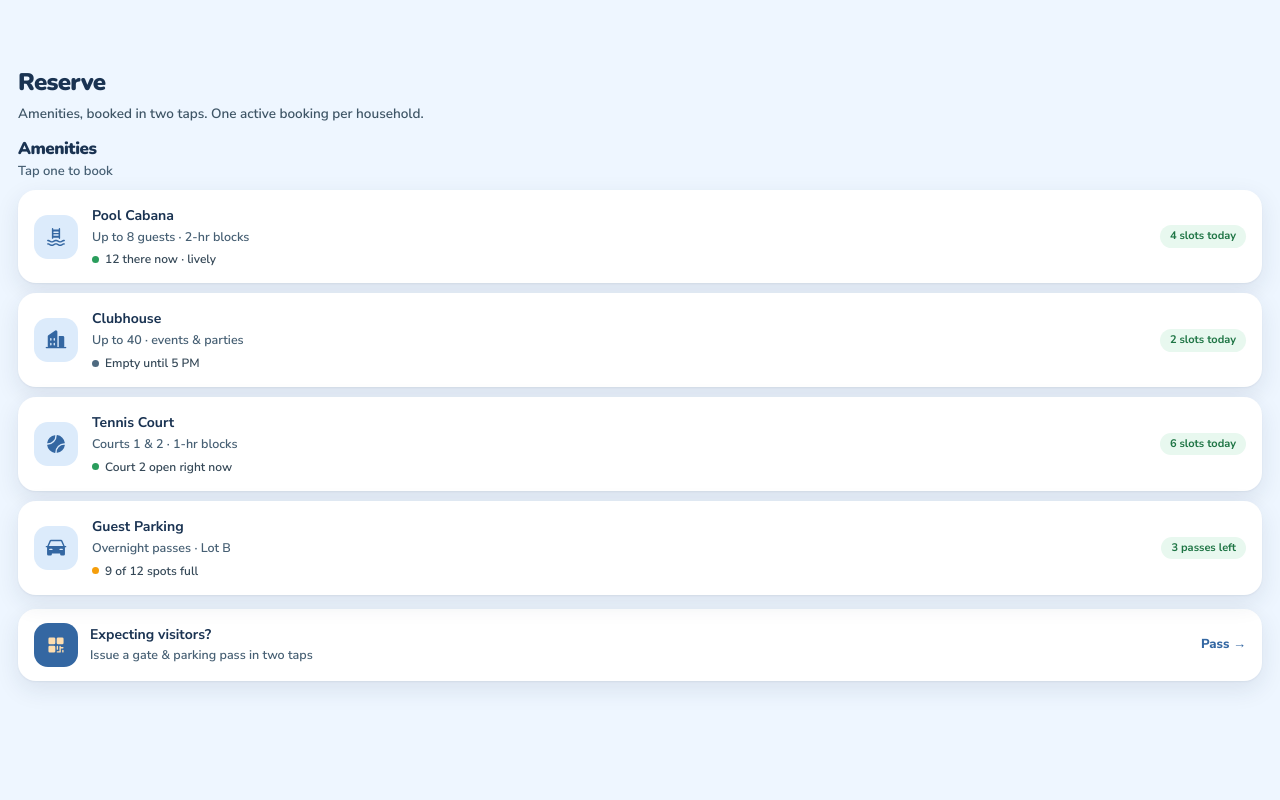
Scenario: booking flow: pick slot, book, see confirmation
The image size is (1280, 800).
Click the text "Pool Cabana" at (133, 215), box [92, 206, 174, 225]
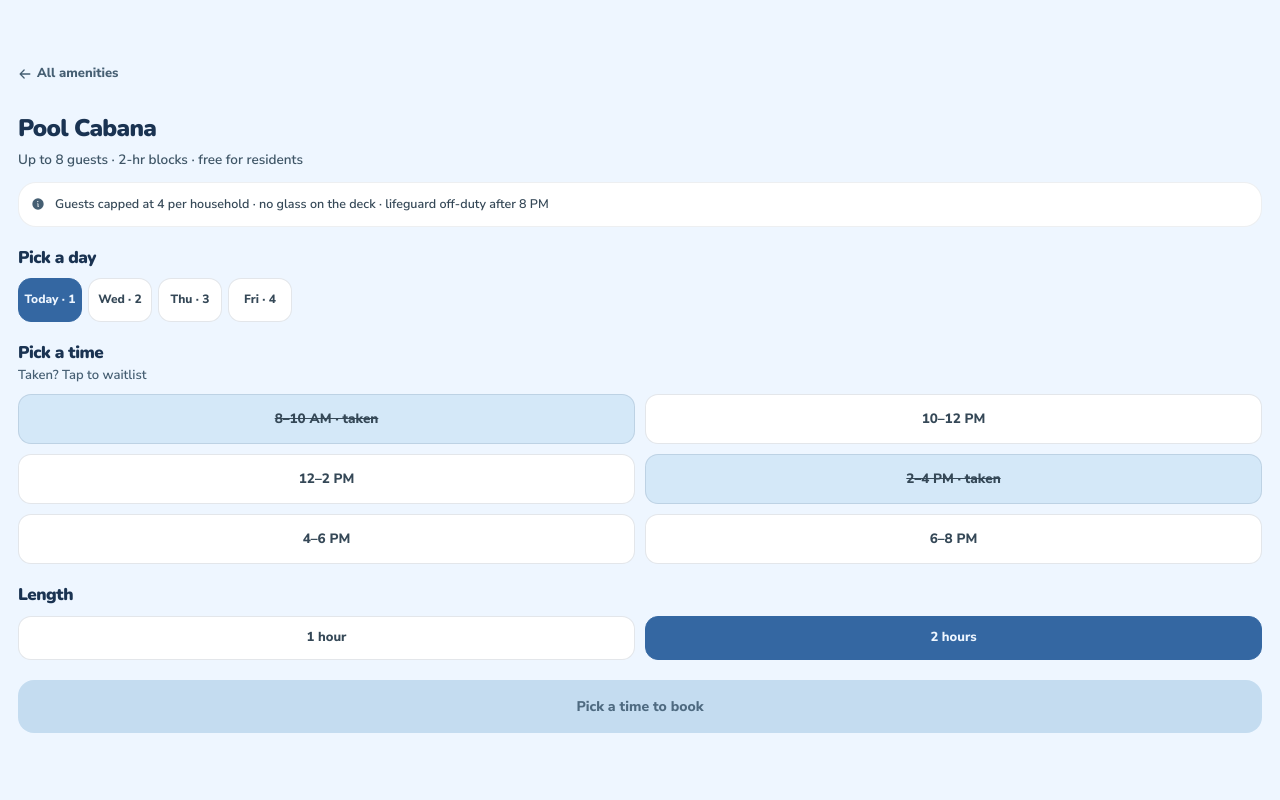
Click the button "4–6 PM" at (326, 539), box [18, 514, 635, 564]
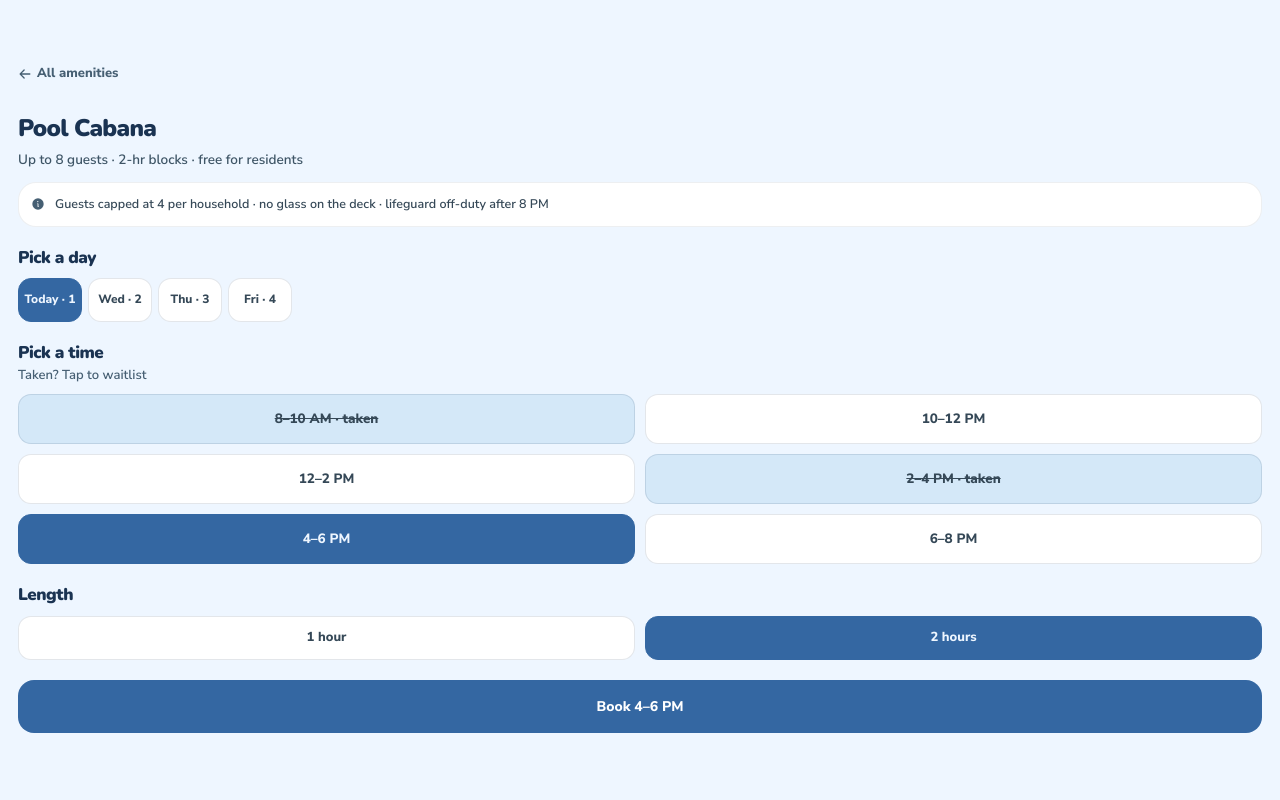
Click the button "Book 4–6 PM" at (640, 706), box [18, 680, 1262, 733]
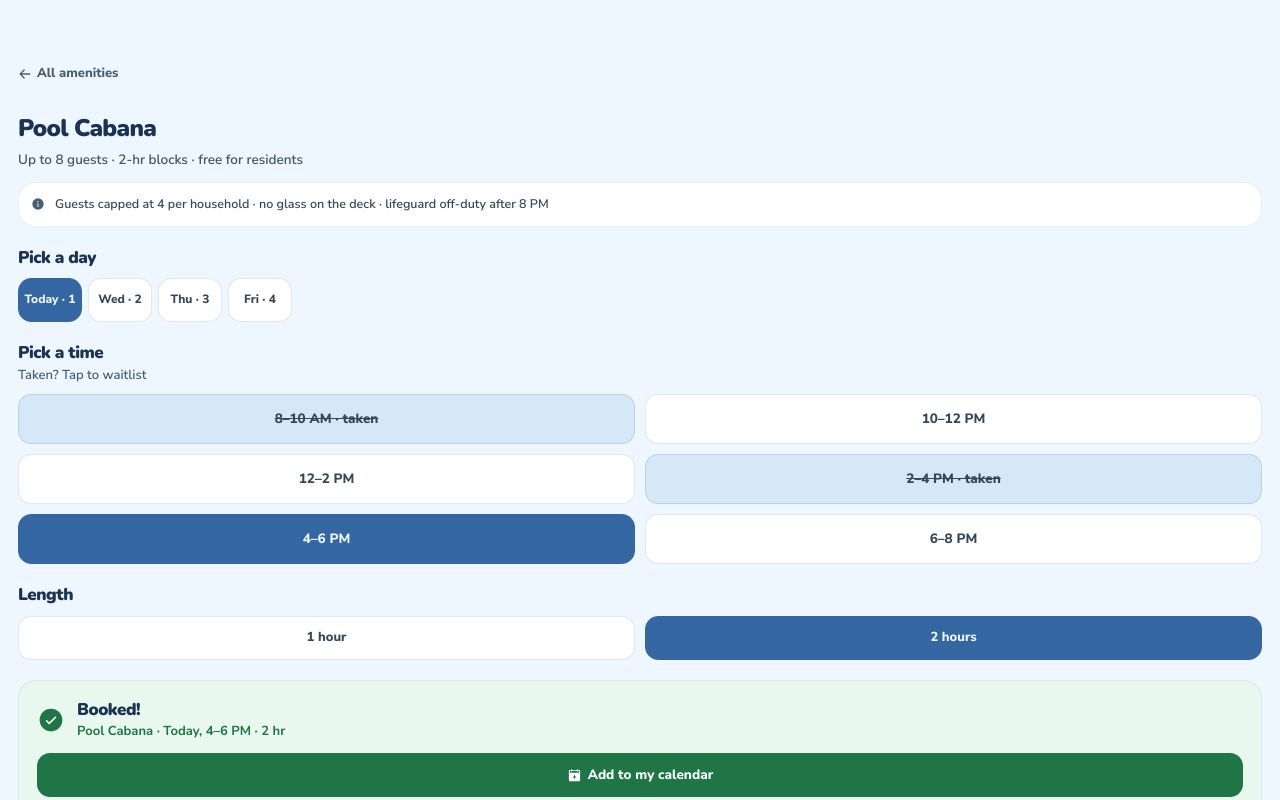
Expected: the text "Booked!" is shown, [77, 698, 140, 721]
Expected: the text "Pool Cabana · Today, 4–6 PM · 2 hr" is shown, [77, 722, 285, 741]
